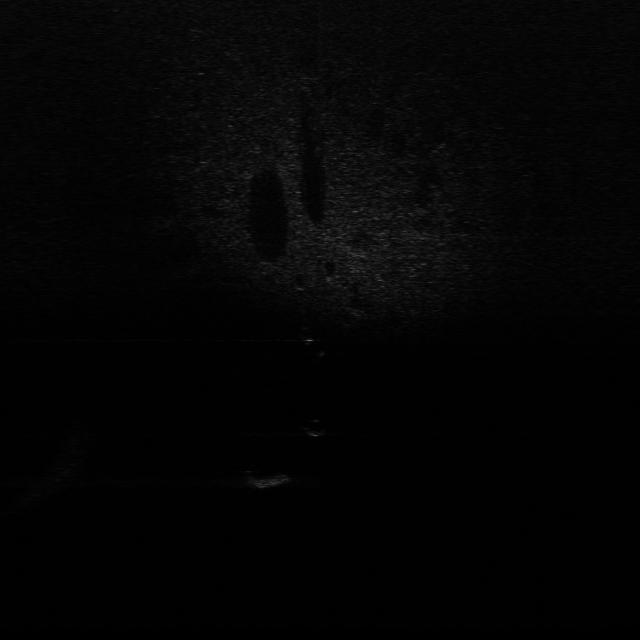ball: (301, 416, 328, 439)
human body: (297, 310, 329, 358)
square cage: (246, 466, 296, 489)
